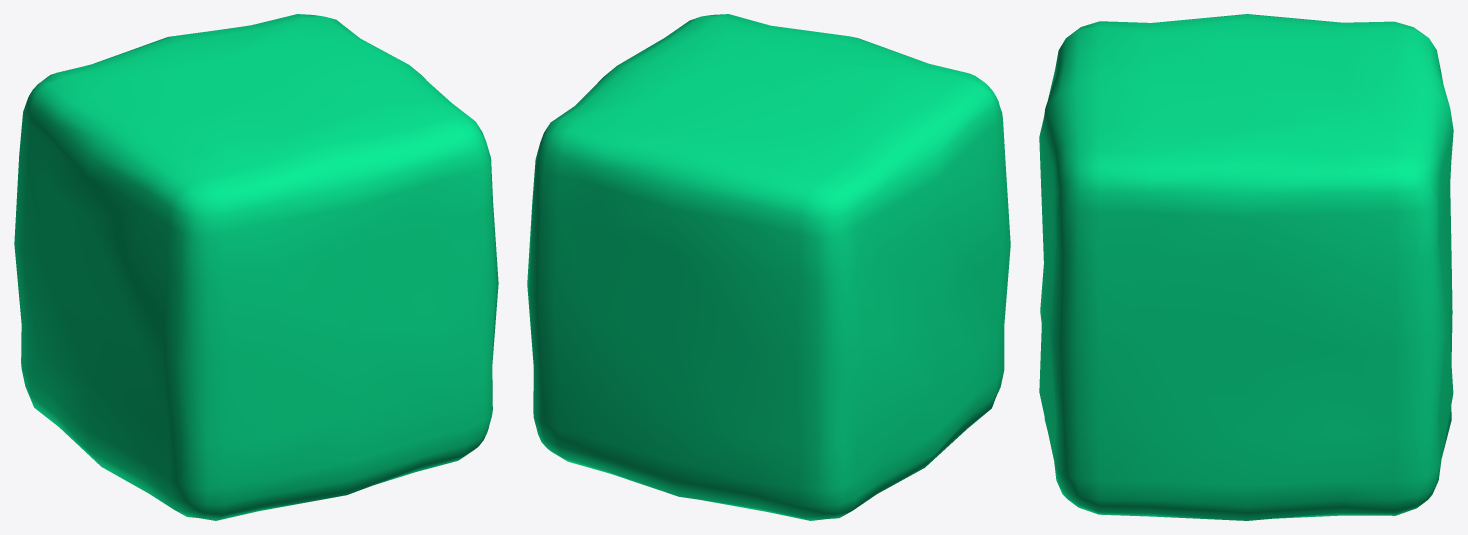
Rendered from anotherone.fbx.
3 renders of one model, left to right at view 1: azimuth 30°, elevation 25°; view 2: azimuth 150°, elevation 25°; view 3: azimuth 270°, elevation 25°, orthographic. The views are drawn at different scales.
Visible parts, largest first — view 1: Cube; view 2: Cube; view 3: Cube.
Part boxes in pixels (left/top/right/bottom): Cube: left=14, top=14, right=498, bottom=520; Cube: left=527, top=14, right=1010, bottom=520; Cube: left=1039, top=14, right=1453, bottom=520.
Bounding box in the file's own units: 0.9889 × 0.988 × 0.9854.
